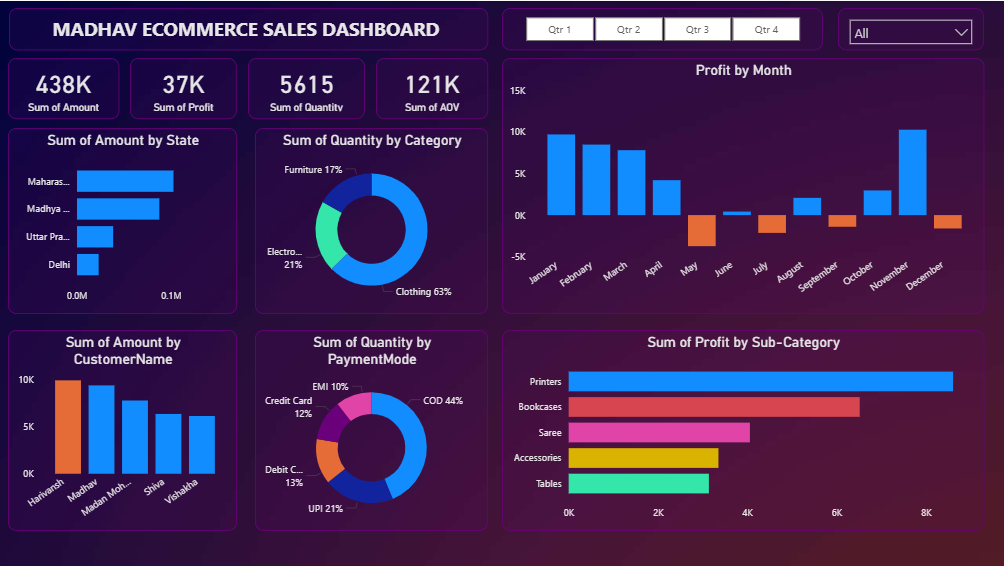

Layout of this report page (visuals, bound fields, positions):
{"tool":"powerbi","page":{"name":"Page 1","canvas":[1280,720],"ordinal":0},"visuals":[{"type":"textbox","box":[11.5,8.9,610.7,53.5],"z":0},{"type":"columnChart","title":" Profit by Month","fields":{"Category":["Orders.Order Date.Variation.Date Hierarchy.Month"],"Y":["Details.Profit"]},"box":[640,72.7,614.5,326.4],"z":1000},{"type":"barChart","fields":{"Category":["Details.Sub-Category"],"Y":["Details.Profit"]},"box":[640,419.4,614.5,256.3],"z":2000},{"type":"donutChart","fields":{"Y":["Details.Quantity"],"Category":["Details.Category"]},"box":[325.1,161.9,297.1,237.1],"z":3000},{"type":"donutChart","fields":{"Y":["Details.Quantity"],"Category":["Details.PaymentMode"]},"box":[325.1,419.4,297.1,256.3],"z":4000},{"type":"card","fields":{"Values":["Details.AOV"]},"box":[479.4,72.7,142.8,77.8],"z":5000},{"type":"card","fields":{"Values":["Details.Quantity"]},"box":[316.2,72.7,149.2,77.8],"z":6000},{"type":"card","fields":{"Values":["Details.Profit"]},"box":[165.7,72.7,136.4,77.8],"z":7000},{"type":"card","fields":{"Values":["Details.Amount"]},"box":[10.2,72.7,141.5,77.8],"z":8000},{"type":"barChart","fields":{"Category":["Orders.State"],"Y":["Details.Amount"]},"box":[10.2,161.9,292,237.1],"z":9000},{"type":"columnChart","fields":{"Category":["Orders.CustomerName"],"Y":["Details.Amount"]},"box":[10.2,419.4,292,256.3],"z":10000},{"type":"slicer","fields":{"Values":["Orders.Order Date.Variation.Date Hierarchy.Quarter"]},"box":[640,8.9,409.2,53.5],"z":11000},{"type":"slicer","fields":{"Values":["Orders.State"]},"box":[1068.4,8.9,186.1,53.5],"z":12000}]}

Visuals, with their boxes in screenshot pixels (x1, y1, x2, y2), scaled from the page's 1280x720 canvas onto the 1004x566 screenshot:
textbox: (9, 7, 488, 49)
" Profit by Month" columnChart: (502, 57, 984, 314)
barChart - Details.Sub-Category x Details.Profit: (502, 330, 984, 531)
donutChart - Details.Quantity x Details.Category: (255, 127, 488, 314)
donutChart - Details.Quantity x Details.PaymentMode: (255, 330, 488, 531)
card - Details.AOV: (376, 57, 488, 118)
card - Details.Quantity: (248, 57, 365, 118)
card - Details.Profit: (130, 57, 237, 118)
card - Details.Amount: (8, 57, 119, 118)
barChart - Orders.State x Details.Amount: (8, 127, 237, 314)
columnChart - Orders.CustomerName x Details.Amount: (8, 330, 237, 531)
slicer - Orders.Order Date.Variation.Date Hierarchy.Quarter: (502, 7, 823, 49)
slicer - Orders.State: (838, 7, 984, 49)
